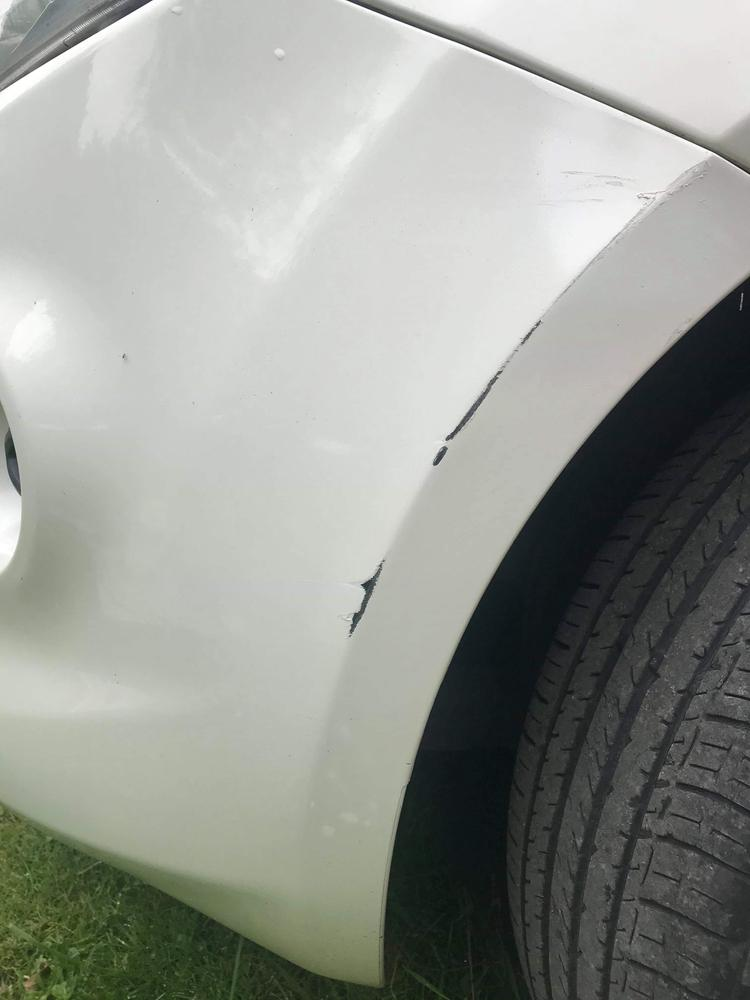scratch: (348, 191, 644, 639)
